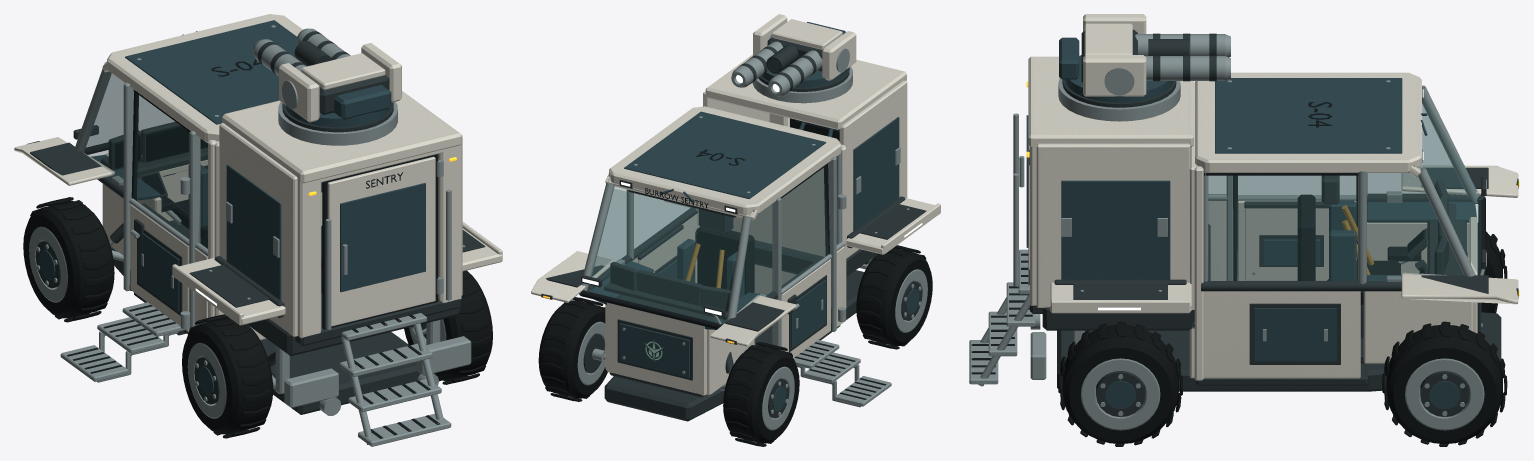
The model's file is burrow-sentry.glb.
3 views of the same model, side by side, from view 1: azimuth 30°, elevation 25°; view 2: azimuth 150°, elevation 25°; view 3: azimuth 270°, elevation 25° (orthographic). The views are drawn at different scales.
Parts seen in each view (by area): view 1: MiningRover_Surface Geometry, GunnerDoor_Surface Geometry, Wheel_FrontPort_Surface Geometry, Wheel_RearPort_Surface Geometry, SentryPitch_Surface Geometry, CabinDoor_Surface Geometry, CabinDoor_Glazing Geometry, MiningRover_Glazing Geometry, BoardingSteps_Surface Geometry, SentryYaw_Surface Geometry, Wheel_RearStarboard_Surface Geometry, Wheel_RearPort_Surface.001 Geometry (+3 smaller); view 2: MiningRover_Surface Geometry, MiningRover_Glazing Geometry, Wheel_FrontPort_Surface Geometry, Wheel_RearPort_Surface Geometry, Wheel_FrontStarboard_Surface Geometry, SentryPitch_Surface Geometry, CabinDoor_Surface Geometry, CabinDoor_Glazing Geometry, BoardingSteps_Surface Geometry, SentryYaw_Surface Geometry, Wheel_FrontPort_Surface.001 Geometry, Wheel_RearPort_Surface.001 Geometry (+5 smaller); view 3: MiningRover_Surface Geometry, MiningRover_Glazing Geometry, Wheel_RearStarboard_Surface Geometry, Wheel_FrontStarboard_Surface Geometry, CabinDoor_Surface Geometry, SentryPitch_Surface Geometry, Wheel_FrontStarboard_Surface.001 Geometry, Wheel_RearStarboard_Surface.001 Geometry, SentryYaw_Surface Geometry, CabinDoor_Glazing Geometry, Wheel_FrontPort_Surface Geometry, GunnerDoor_Surface Geometry.
Boxes of the visible parts, <box> form: MiningRover_Surface Geometry: <box>14,14,502,446</box>; GunnerDoor_Surface Geometry: <box>322,154,438,329</box>; Wheel_FrontPort_Surface Geometry: <box>23,197,114,322</box>; Wheel_RearPort_Surface Geometry: <box>182,314,273,438</box>; SentryPitch_Surface Geometry: <box>253,28,391,119</box>; CabinDoor_Surface Geometry: <box>129,89,190,332</box>; CabinDoor_Glazing Geometry: <box>133,95,189,238</box>; MiningRover_Glazing Geometry: <box>81,62,207,248</box>; BoardingSteps_Surface Geometry: <box>60,302,186,382</box>; SentryYaw_Surface Geometry: <box>279,43,401,127</box>; Wheel_RearStarboard_Surface Geometry: <box>404,270,492,384</box>; Wheel_RearPort_Surface.001 Geometry: <box>187,342,226,418</box>; MiningRover_Surface Geometry: <box>531,54,940,421</box>; MiningRover_Glazing Geometry: <box>586,157,839,323</box>; Wheel_FrontPort_Surface Geometry: <box>723,342,799,446</box>; Wheel_RearPort_Surface Geometry: <box>856,245,932,349</box>; Wheel_FrontStarboard_Surface Geometry: <box>538,297,607,401</box>; SentryPitch_Surface Geometry: <box>731,19,845,96</box>; CabinDoor_Surface Geometry: <box>780,163,831,357</box>; CabinDoor_Glazing Geometry: <box>782,167,828,288</box>; BoardingSteps_Surface Geometry: <box>793,340,891,407</box>; SentryYaw_Surface Geometry: <box>753,14,856,87</box>; Wheel_FrontPort_Surface.001 Geometry: <box>762,366,794,430</box>; Wheel_RearPort_Surface.001 Geometry: <box>895,269,927,332</box>; MiningRover_Surface Geometry: <box>969,56,1518,391</box>; MiningRover_Glazing Geometry: <box>1208,97,1480,281</box>; Wheel_RearStarboard_Surface Geometry: <box>1058,321,1182,446</box>; Wheel_FrontStarboard_Surface Geometry: <box>1382,321,1507,446</box>; CabinDoor_Surface Geometry: <box>1233,175,1357,280</box>; SentryPitch_Surface Geometry: <box>1059,23,1230,82</box>; Wheel_FrontStarboard_Surface.001 Geometry: <box>1405,358,1484,430</box>; Wheel_RearStarboard_Surface.001 Geometry: <box>1081,358,1160,430</box>; SentryYaw_Surface Geometry: <box>1065,14,1172,102</box>; CabinDoor_Glazing Geometry: <box>1238,176,1355,195</box>; Wheel_FrontPort_Surface Geometry: <box>1477,223,1507,313</box>; GunnerDoor_Surface Geometry: <box>1019,115,1029,286</box>.
Size of the model in its own units: 3.02 by 3.22 by 4.58.
9 materials, 2 textured.
